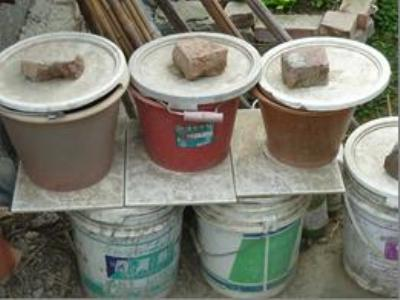bucket: (1, 84, 127, 194), (191, 195, 310, 299), (128, 88, 263, 174), (68, 204, 187, 300), (341, 116, 400, 300), (252, 91, 378, 168)
plate: (1, 30, 126, 113), (257, 33, 391, 110), (127, 31, 262, 102)
